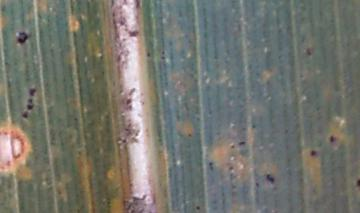tarspot: (17, 31, 28, 45), (266, 173, 275, 186), (29, 87, 37, 97), (309, 149, 317, 158), (208, 160, 214, 171), (238, 139, 246, 147), (26, 103, 35, 110), (306, 47, 313, 56), (329, 134, 336, 143), (250, 121, 257, 130), (22, 110, 29, 118), (227, 164, 233, 172), (356, 178, 360, 189), (27, 96, 33, 103), (146, 51, 152, 58), (160, 55, 167, 61), (195, 204, 201, 211), (229, 143, 236, 148), (254, 180, 259, 187), (160, 50, 166, 54), (188, 132, 192, 138)
